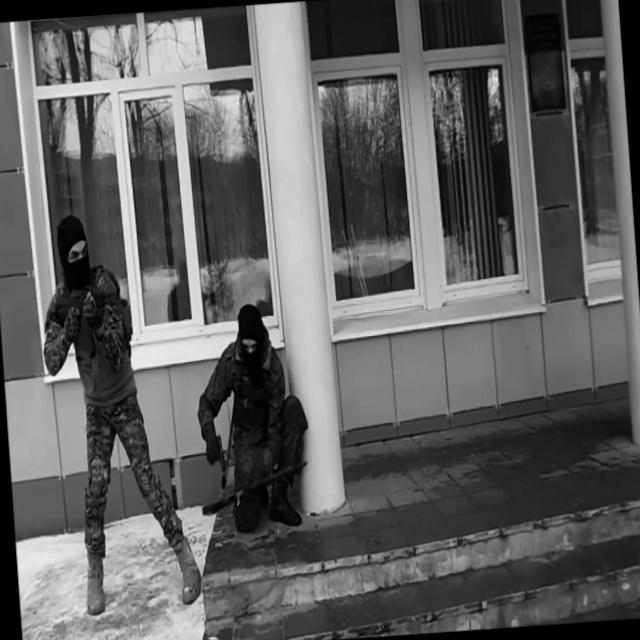gun: (198, 459, 312, 519), (52, 282, 132, 362), (204, 433, 226, 474)
person with a gun: (35, 205, 204, 619), (188, 299, 316, 536)
